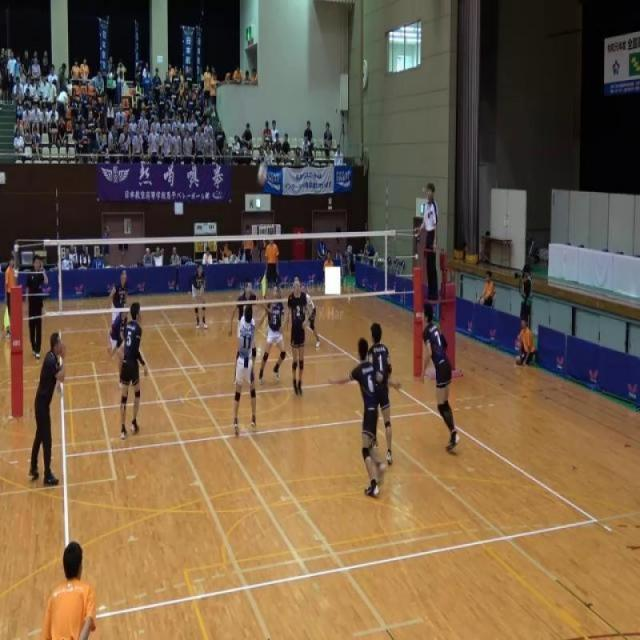volleyball: (256, 160, 268, 188)
